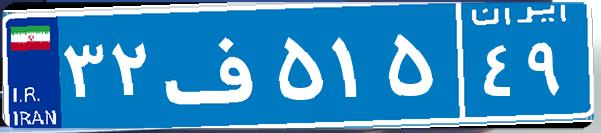1: (330, 28, 385, 110)
2: (110, 28, 158, 105)
3: (57, 26, 110, 107)
4: (475, 38, 525, 113)
5: (385, 28, 445, 110), (273, 28, 330, 110)
9: (525, 38, 570, 115)
ف: (158, 15, 273, 115)
